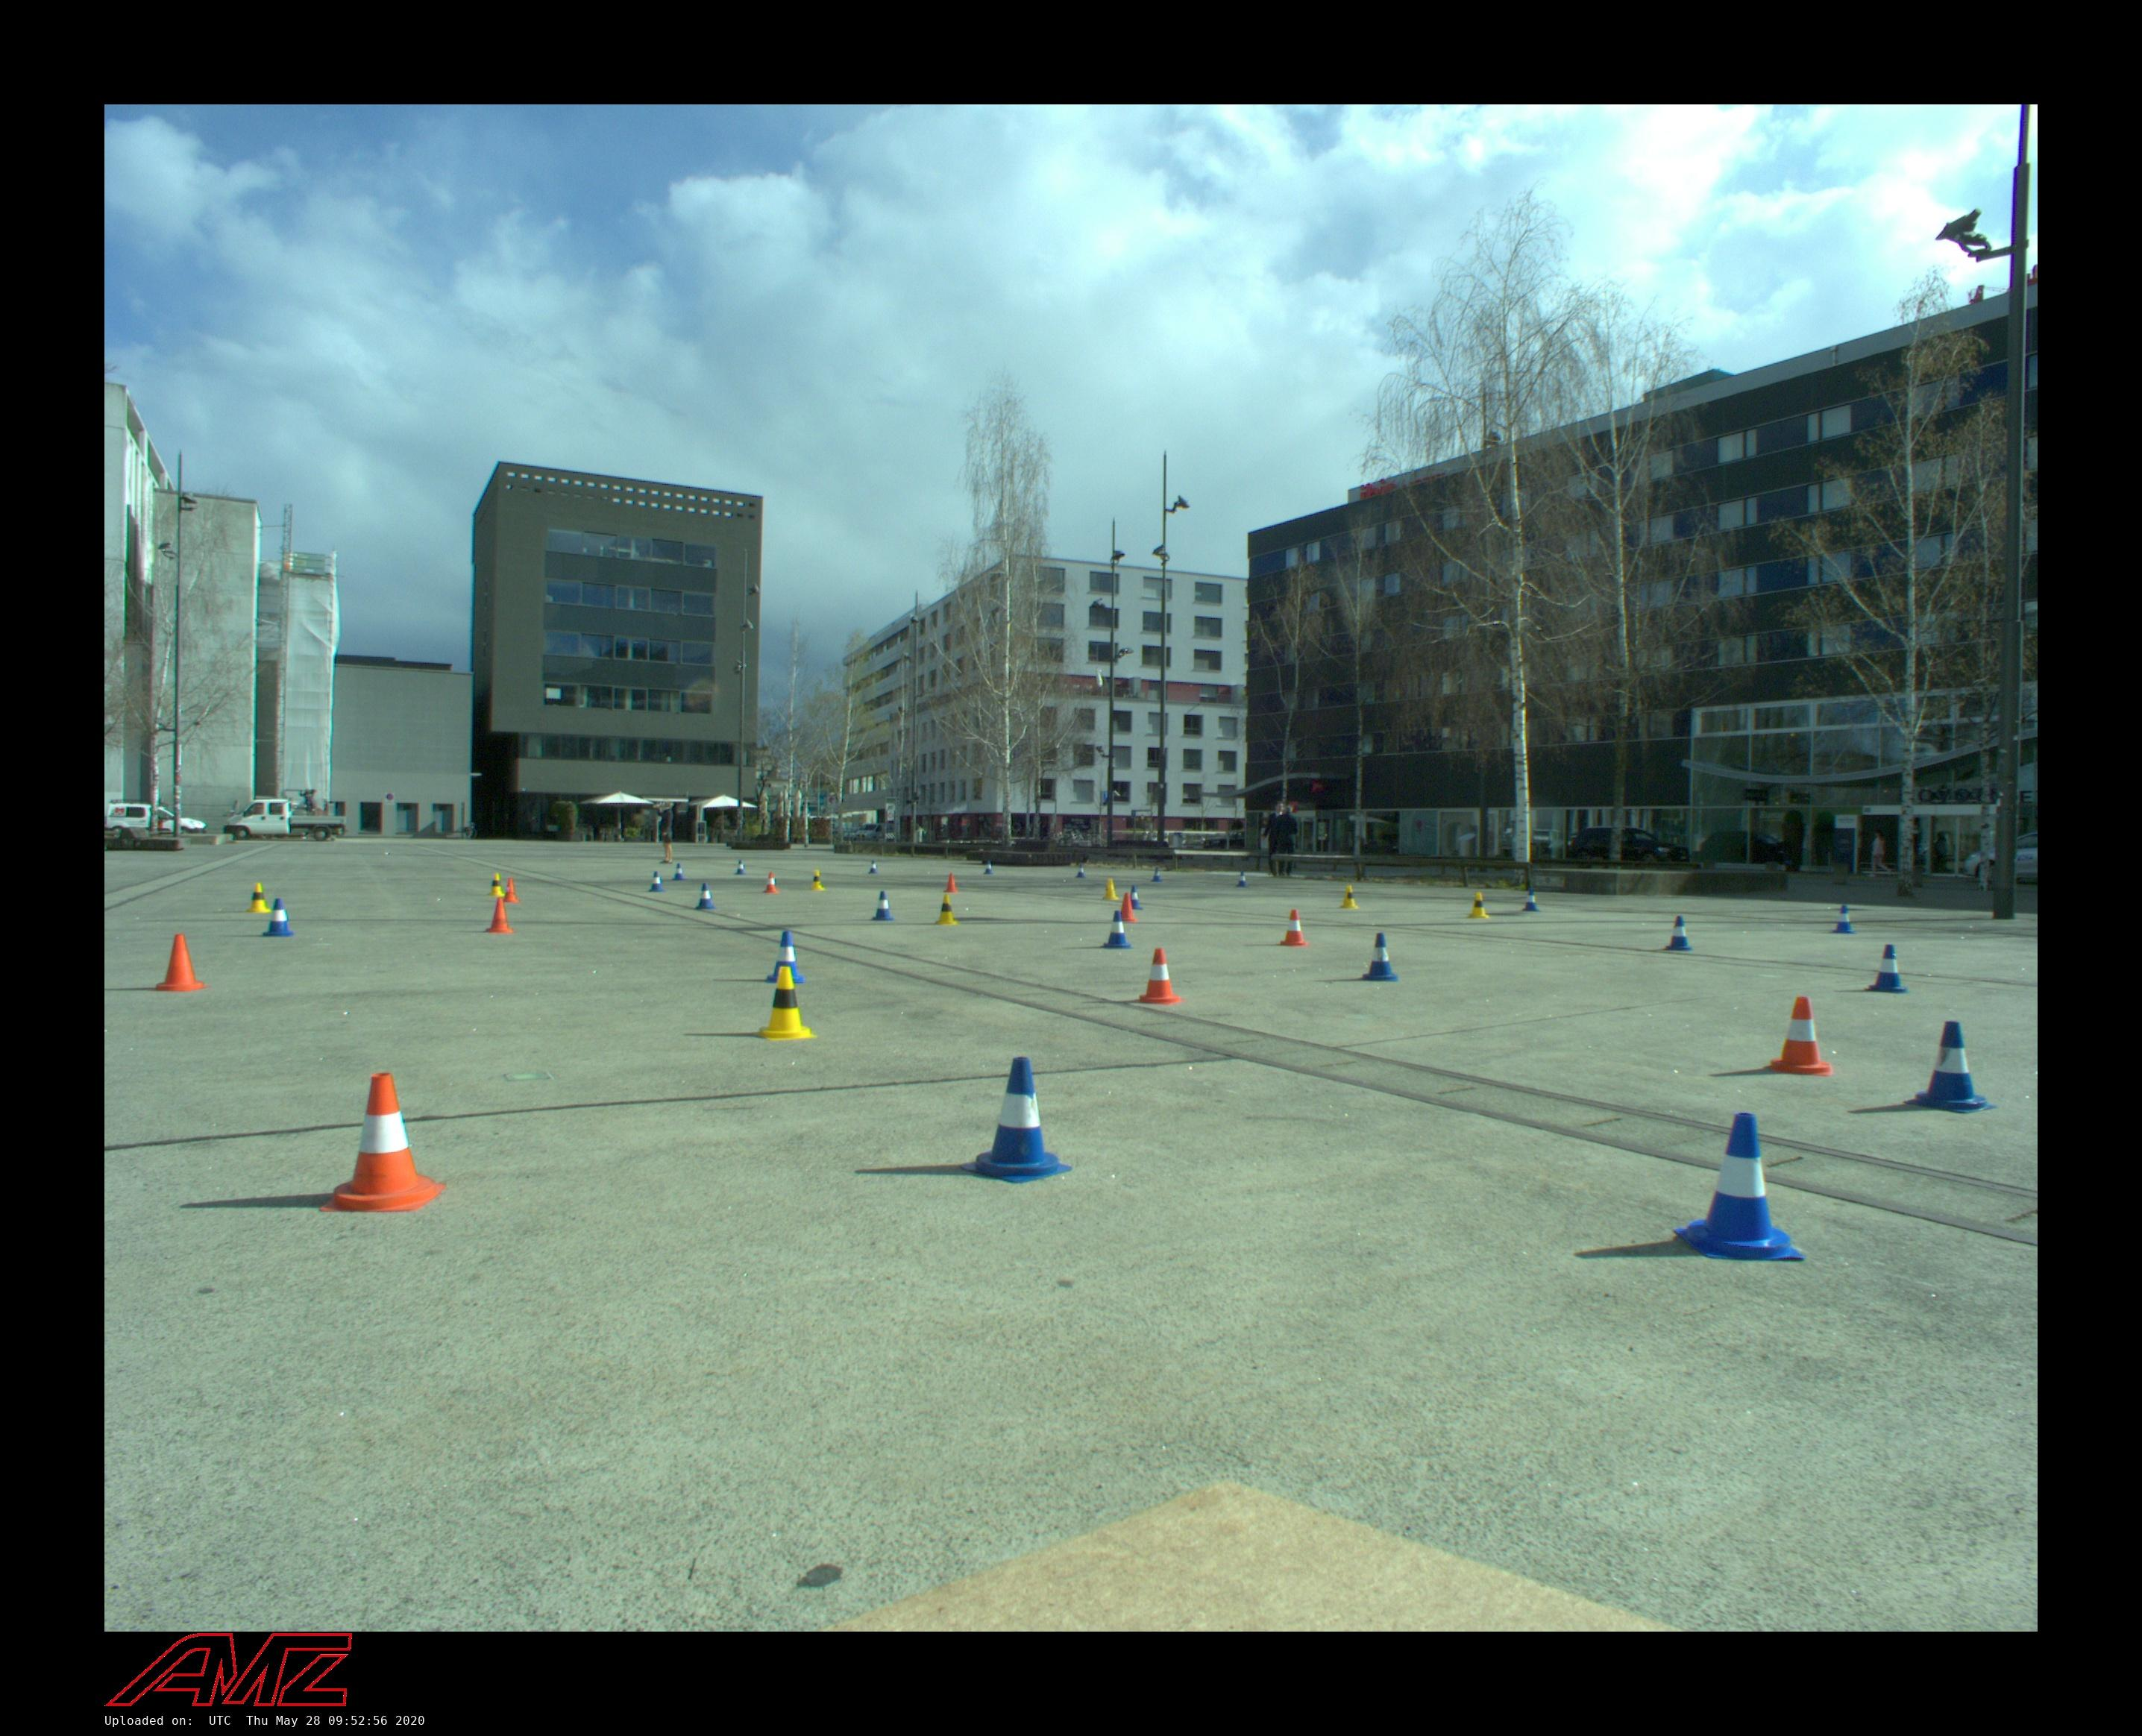blue_cone: (1674, 1111, 1806, 1262), (960, 1056, 1074, 1183), (1903, 1019, 2000, 1114), (764, 929, 807, 984), (1867, 944, 1909, 993), (1360, 931, 1398, 981), (1102, 910, 1134, 949), (263, 898, 295, 937), (1665, 915, 1693, 950), (1832, 905, 1856, 934), (873, 890, 894, 920), (695, 883, 717, 909), (1521, 888, 1541, 911), (1130, 884, 1143, 910), (650, 871, 666, 891), (672, 864, 688, 881), (1237, 872, 1250, 887), (735, 860, 748, 874), (1075, 864, 1086, 878), (868, 860, 879, 874), (984, 860, 993, 875), (1152, 868, 1162, 881)
orange_cone: (318, 1072, 446, 1212), (1768, 996, 1832, 1077), (155, 932, 212, 993), (1137, 947, 1184, 1006), (1278, 909, 1310, 946), (486, 897, 515, 933), (1120, 893, 1138, 922), (502, 877, 521, 902), (764, 872, 780, 893), (943, 873, 958, 893)
yellow_cone: (755, 966, 820, 1040), (245, 881, 273, 913), (935, 894, 958, 925), (1468, 892, 1489, 919), (1339, 884, 1360, 908), (487, 872, 506, 897), (1104, 878, 1120, 901), (810, 869, 826, 890)
